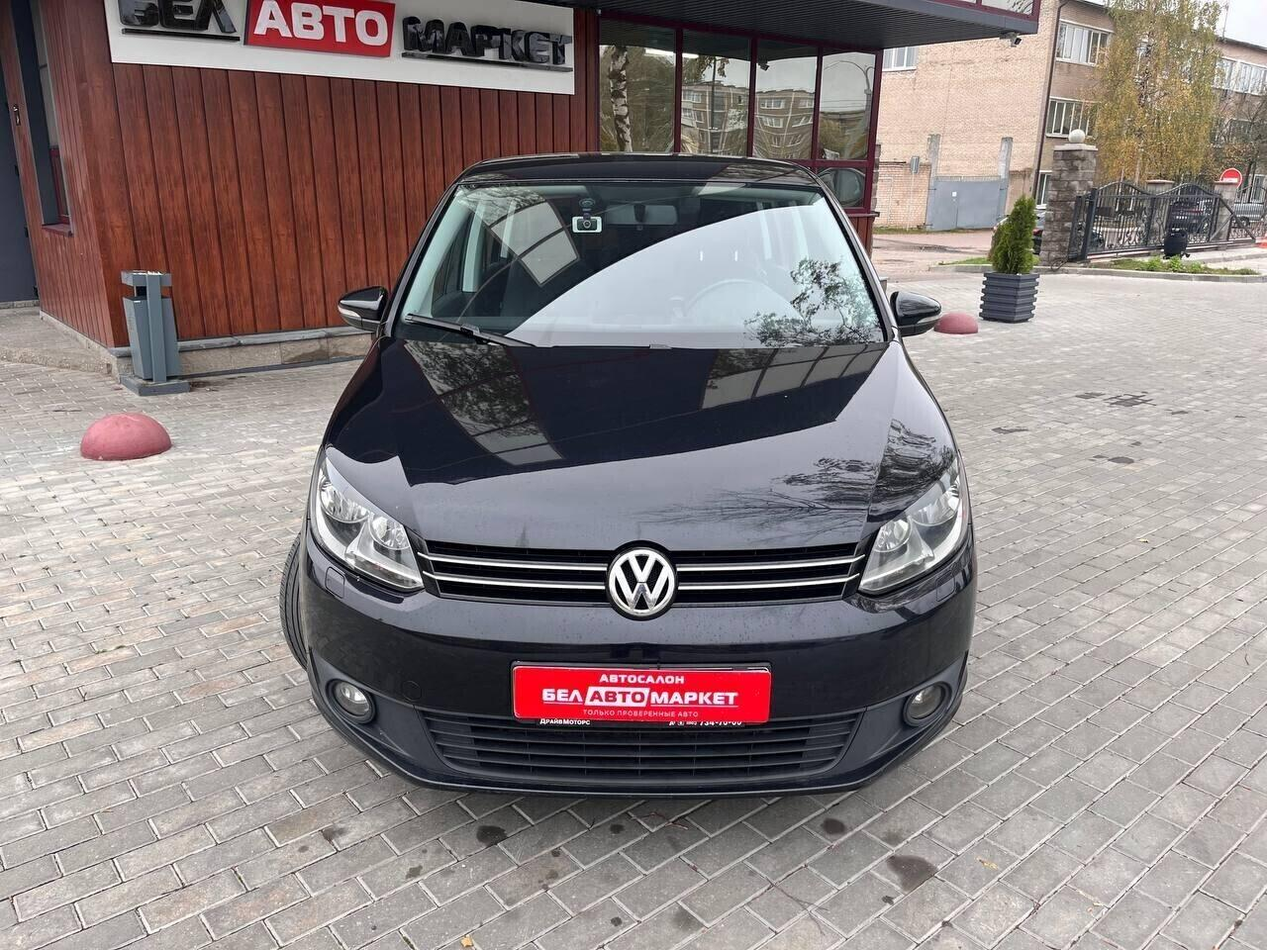Touran_2010-2015: (268, 146, 989, 793)
